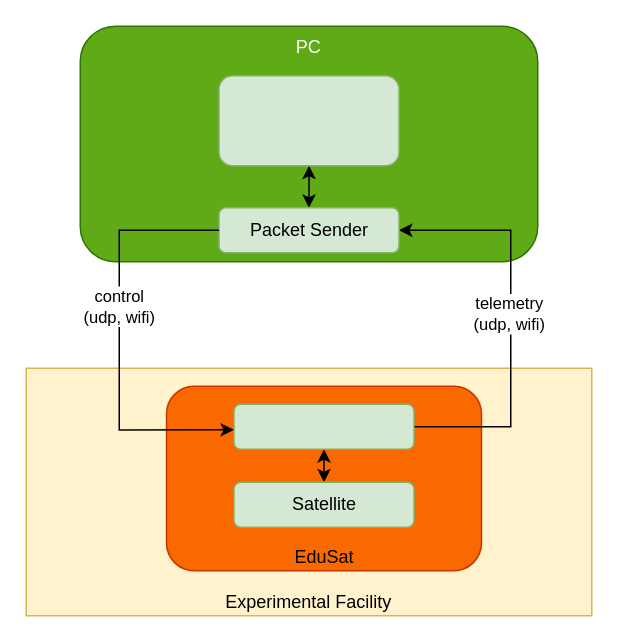
Image size: 618x642. Some labels were removed from this diagram. Here are the shapes that lost their labels. From the top down, the box of each, then its label:
(218, 74, 399, 166): Simulink
(232, 403, 414, 449): HelTec wifi card
